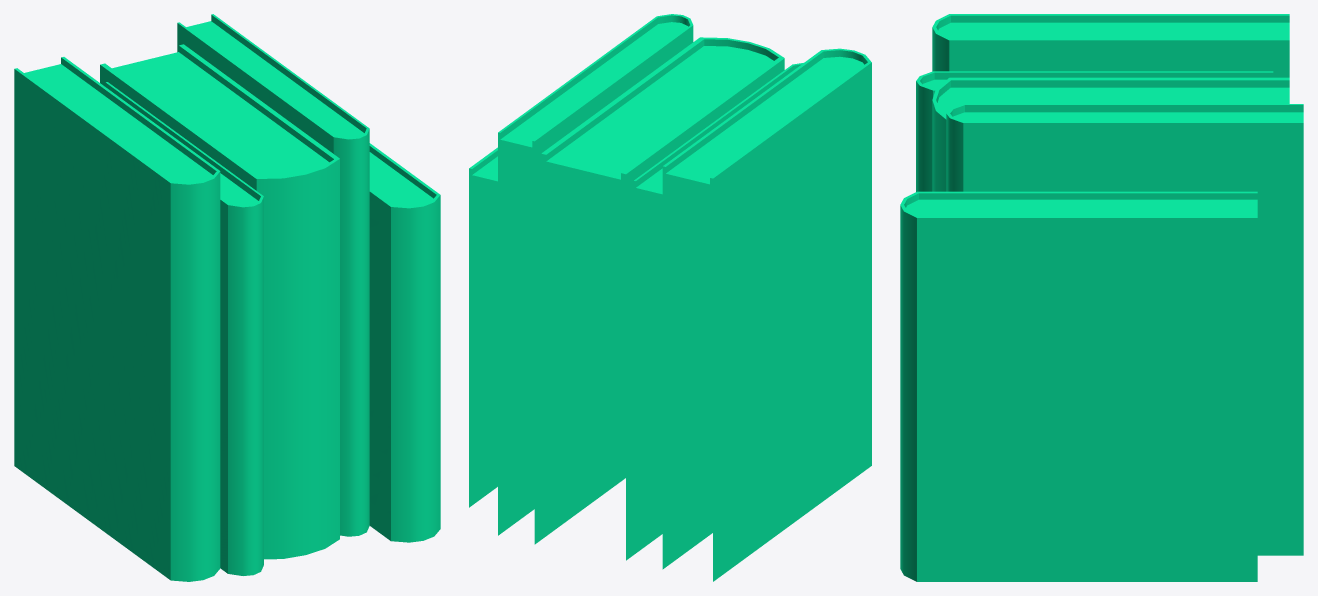
File: HalloweenRoomA_BooksA.fbx
The picture shows the model from 3 angles, left to right: view 1: azimuth 30°, elevation 25°; view 2: azimuth 150°, elevation 25°; view 3: azimuth 270°, elevation 25°; orthographic projection. The views are drawn at different scales.
Parts seen in each view (by area): view 1: HalloweenRoomA_BooksA; view 2: HalloweenRoomA_BooksA; view 3: HalloweenRoomA_BooksA.
Part boxes in pixels (<box>): HalloweenRoomA_BooksA: <box>14,14,440,581</box>; HalloweenRoomA_BooksA: <box>469,14,871,581</box>; HalloweenRoomA_BooksA: <box>900,14,1303,581</box>.
Size of the model in its own units: 24.54 by 36.52 by 30.87.
